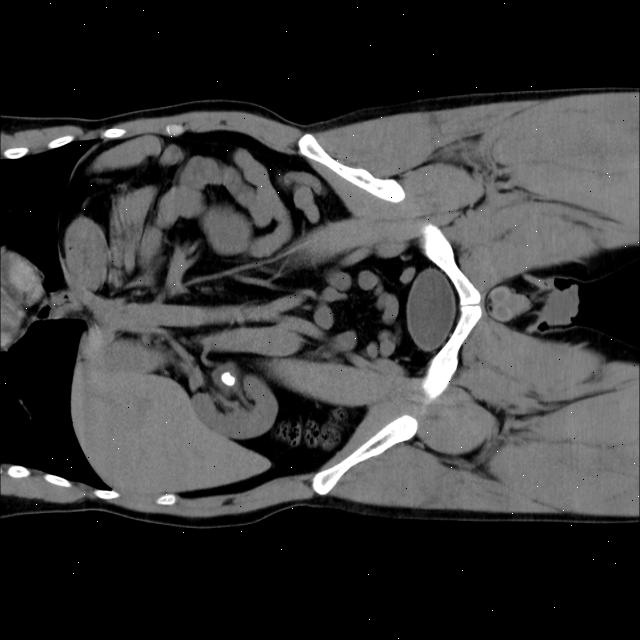kidneystone: (221, 370, 236, 386)
